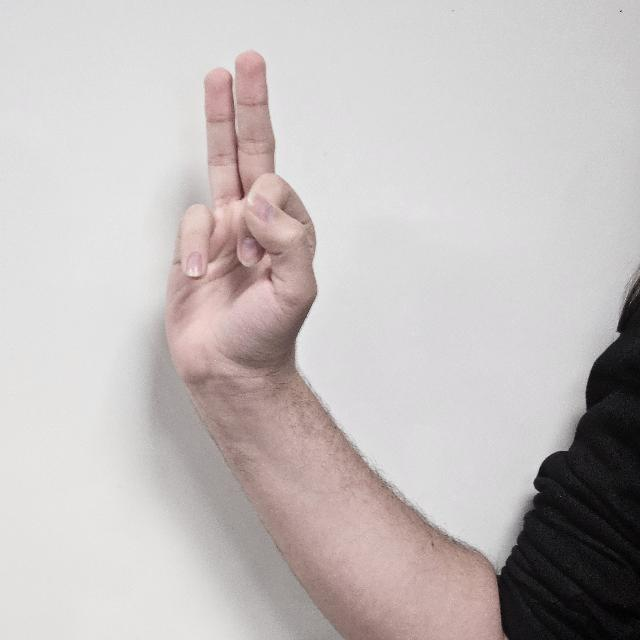R: (165, 49, 317, 388)
